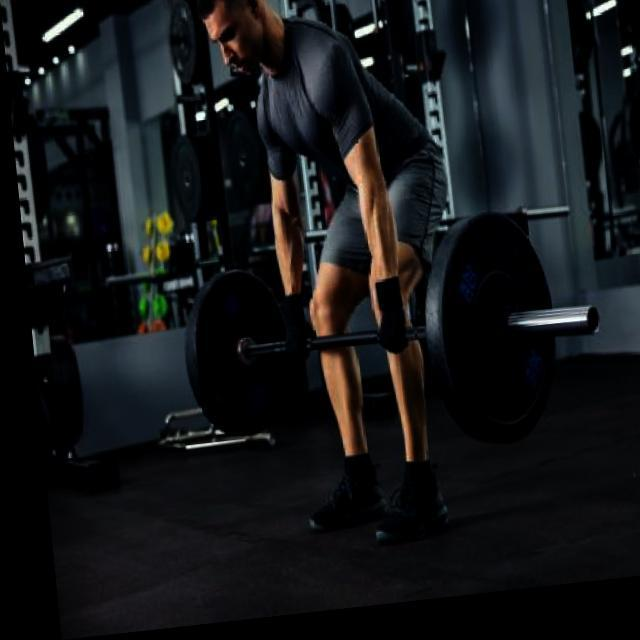barbell: (418, 207, 603, 462)
